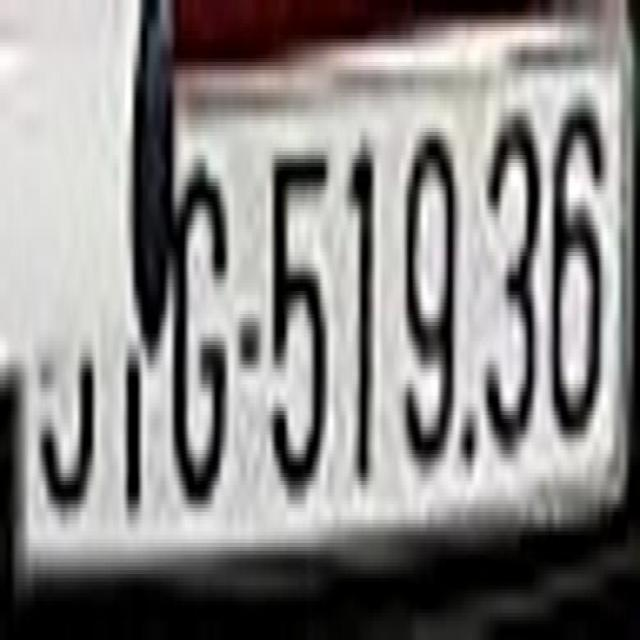1: (111, 85, 152, 528), (347, 124, 382, 500)
3: (483, 105, 536, 454)
5: (31, 97, 96, 512), (268, 112, 333, 512)
6: (547, 86, 610, 473)
9: (400, 97, 458, 477)
G: (170, 144, 230, 532)
